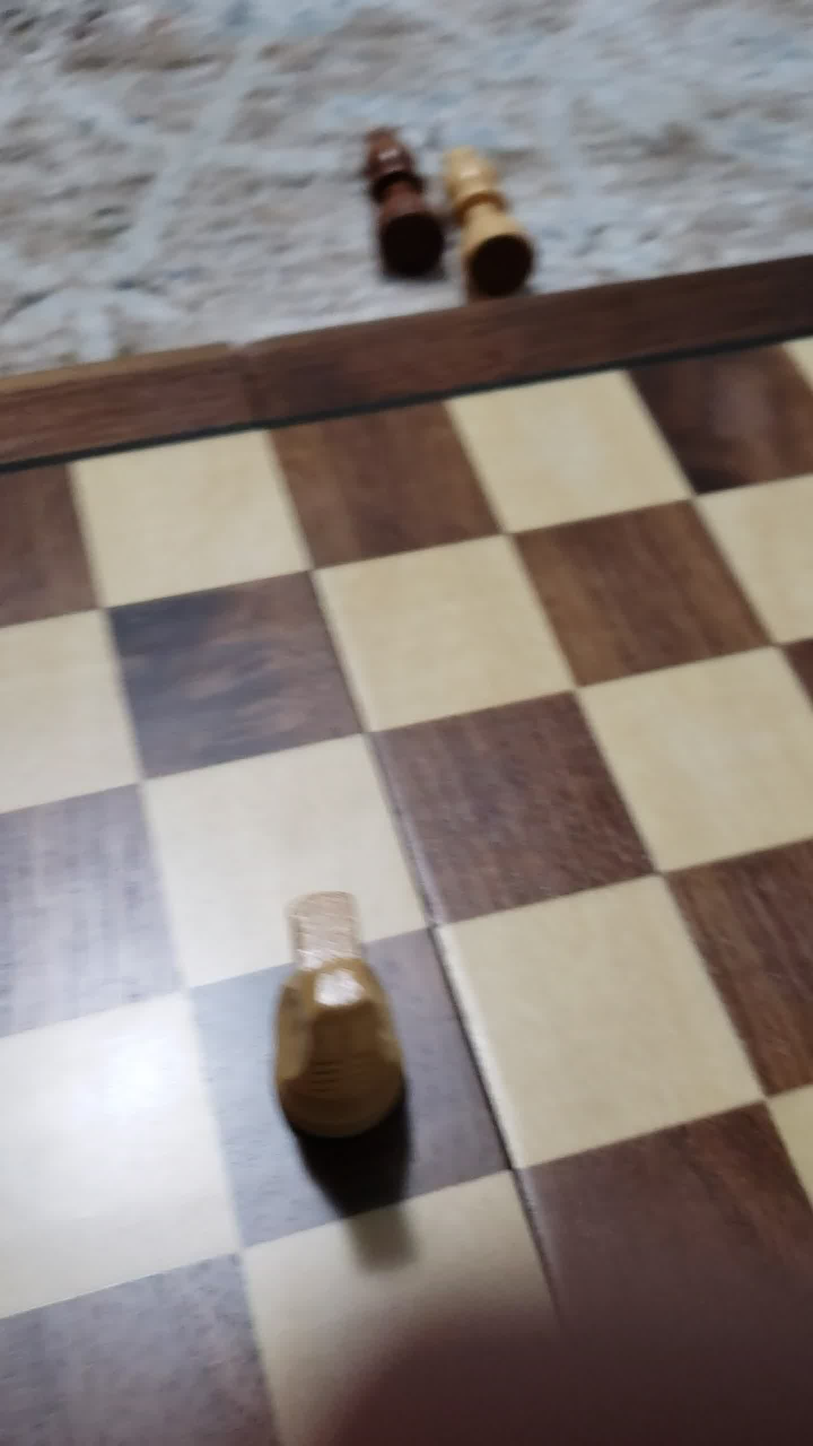white-knight: (221, 878, 458, 1170)
